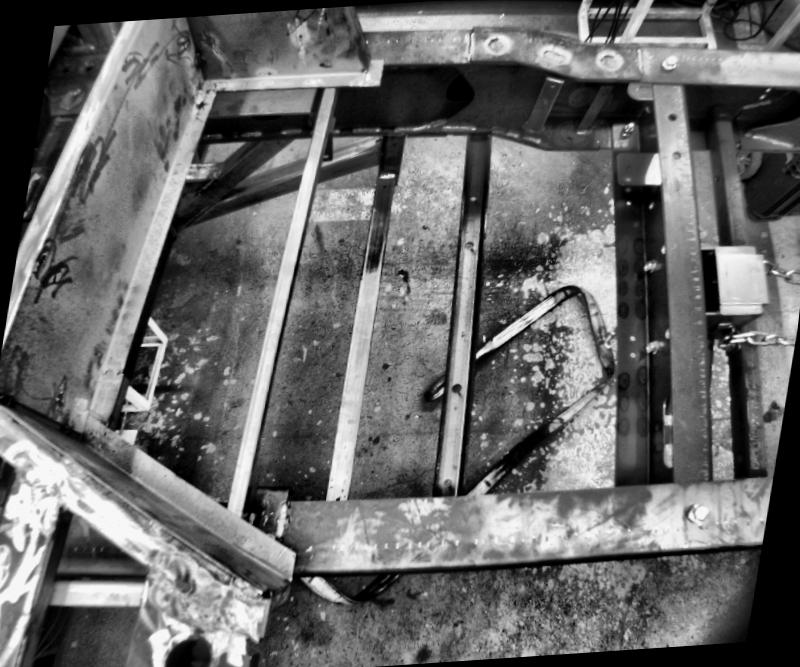bolt: (676, 497, 714, 525), (656, 49, 680, 72), (620, 118, 636, 137), (644, 338, 660, 355), (642, 258, 656, 274)
bracket: (246, 471, 304, 530), (569, 76, 612, 140), (524, 69, 562, 139), (610, 146, 668, 188), (317, 112, 342, 164)
hole: (164, 632, 214, 666), (448, 380, 464, 394), (439, 474, 453, 488), (626, 332, 638, 342), (666, 110, 676, 121), (644, 198, 654, 209), (670, 148, 680, 158), (468, 192, 476, 202), (462, 240, 472, 248), (628, 348, 636, 358), (622, 198, 630, 208), (380, 180, 388, 188), (320, 152, 328, 158), (625, 164, 632, 170), (373, 136, 380, 141), (622, 186, 630, 190), (388, 140, 394, 144)
